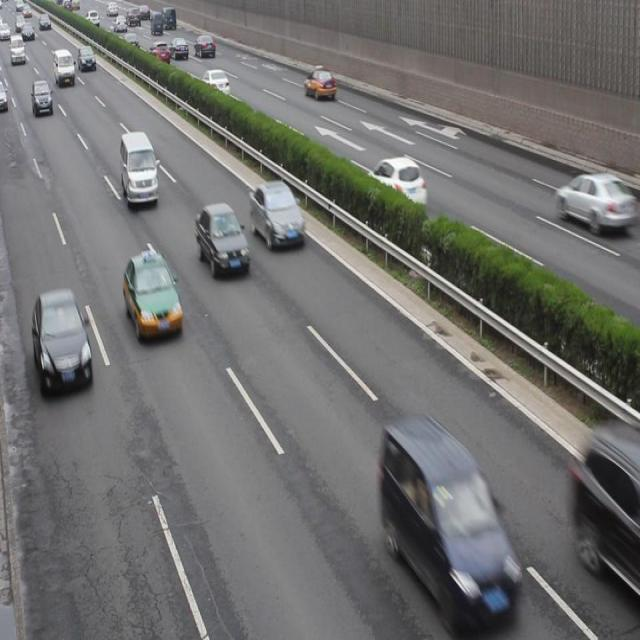car: (380, 416, 517, 626), (572, 428, 640, 590), (33, 292, 92, 394), (123, 252, 183, 338), (554, 172, 628, 232), (193, 203, 250, 279), (247, 180, 305, 250), (366, 157, 426, 208), (304, 66, 334, 101), (32, 80, 54, 118), (200, 71, 230, 98), (194, 36, 215, 61), (149, 42, 169, 65), (169, 37, 188, 61), (78, 48, 96, 72), (121, 34, 139, 53), (150, 14, 162, 37)
truck: (120, 128, 159, 205), (52, 49, 74, 87)
